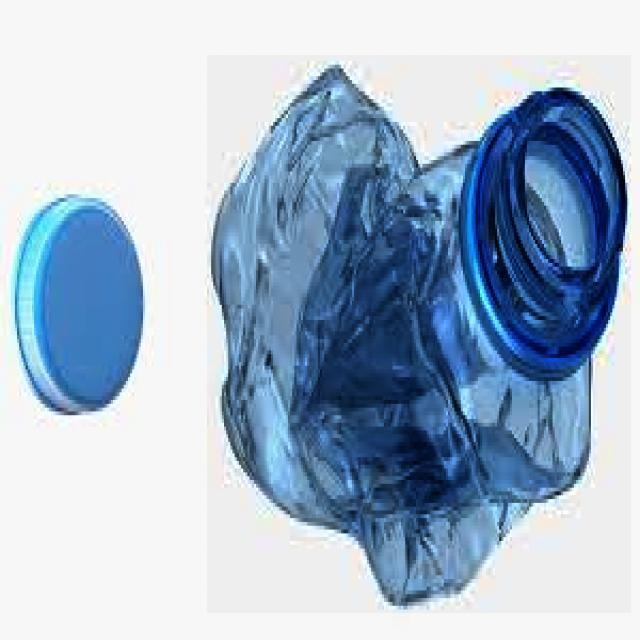bottle: (207, 55, 631, 613)
cap: (13, 192, 140, 416)
